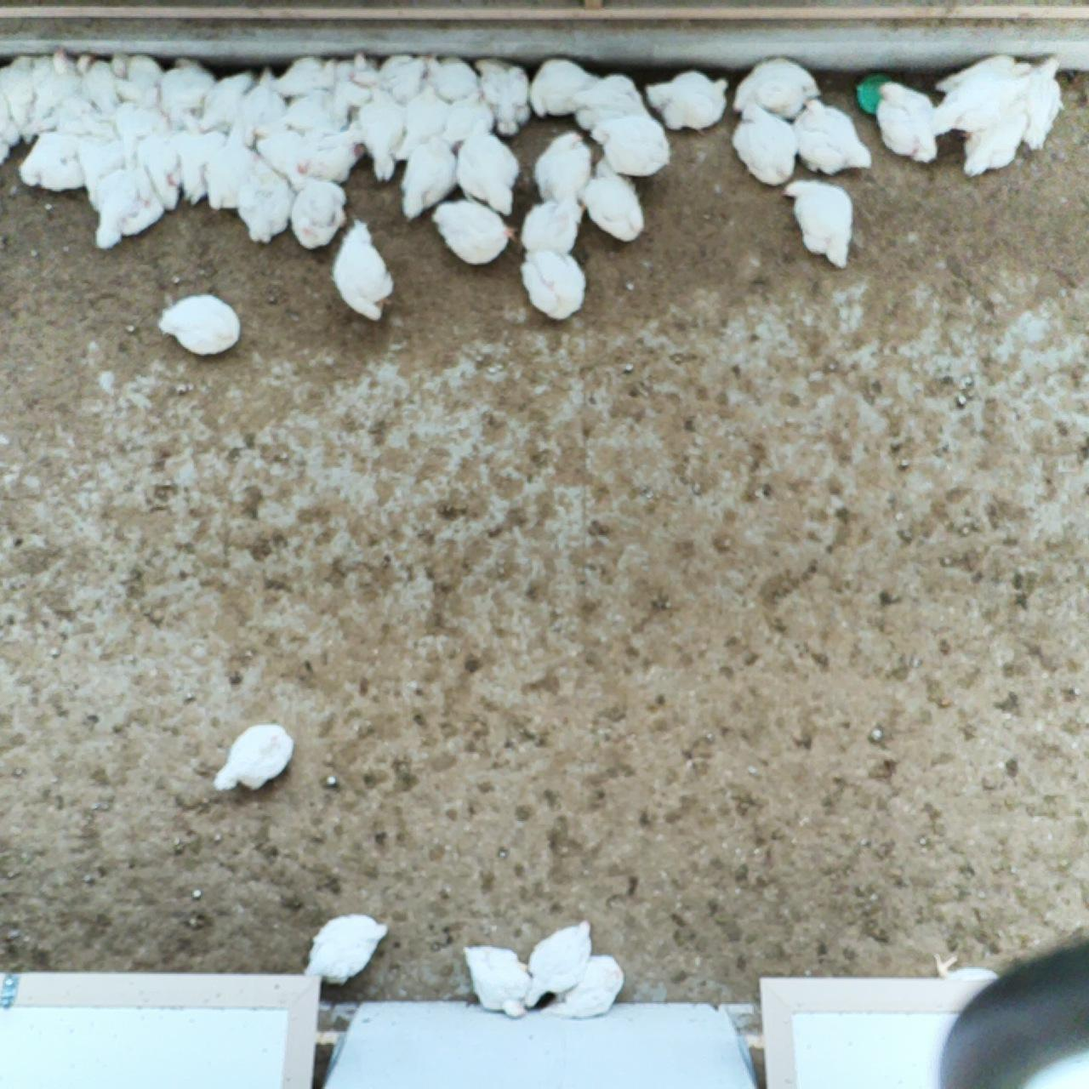chicken: (937, 30, 1027, 136), (781, 181, 857, 270), (332, 219, 395, 319), (305, 912, 391, 984), (523, 917, 595, 1001), (794, 98, 873, 171), (963, 98, 1032, 179), (219, 723, 295, 792), (462, 944, 530, 1021), (433, 201, 511, 267), (734, 105, 798, 185), (95, 174, 163, 249), (550, 954, 624, 1021), (878, 82, 939, 163), (477, 54, 538, 134), (596, 114, 672, 178), (737, 60, 825, 114), (522, 249, 588, 320), (529, 58, 608, 117), (648, 73, 729, 130), (161, 294, 242, 351), (462, 132, 516, 216), (404, 136, 457, 220), (582, 172, 645, 242), (1019, 54, 1071, 137), (537, 131, 594, 205), (358, 88, 403, 180), (208, 131, 261, 209), (574, 74, 650, 128), (290, 177, 347, 249), (159, 53, 215, 123), (166, 130, 222, 200), (244, 160, 293, 239), (396, 85, 451, 152), (18, 130, 79, 190), (134, 128, 177, 212), (199, 65, 251, 134), (521, 199, 581, 257), (253, 121, 305, 182), (80, 127, 126, 191), (424, 50, 483, 98), (37, 48, 77, 118), (111, 53, 167, 99), (30, 99, 101, 135), (447, 93, 498, 142), (3, 54, 41, 117), (79, 52, 118, 113), (269, 56, 341, 89), (377, 53, 431, 94), (930, 953, 998, 985), (306, 135, 353, 179), (288, 91, 335, 134), (111, 98, 159, 140), (251, 66, 282, 125), (341, 51, 378, 86), (0, 116, 20, 164)
